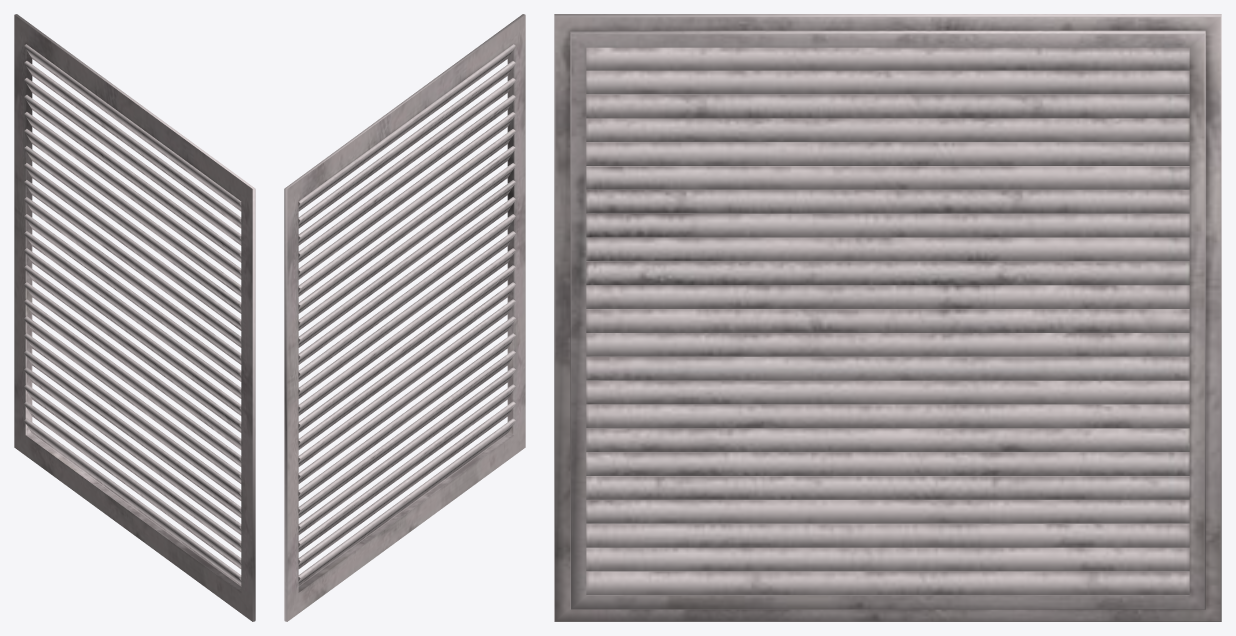
File: vent.glb
3 views of the same model, side by side, from view 1: azimuth 30°, elevation 25°; view 2: azimuth 150°, elevation 25°; view 3: azimuth 270°, elevation 25° (orthographic). The views are drawn at different scales.
Visible parts, largest first — view 1: Cube; view 2: Cube; view 3: Cube.
Part boxes in pixels (x1,y1,x2,y2): Cube: (14, 14, 255, 621); Cube: (284, 14, 525, 621); Cube: (554, 14, 1221, 621).
Bounding box in the file's own units: 0.0337 × 1.25 × 1.25.
Materials: 1 (1 with a texture image).
